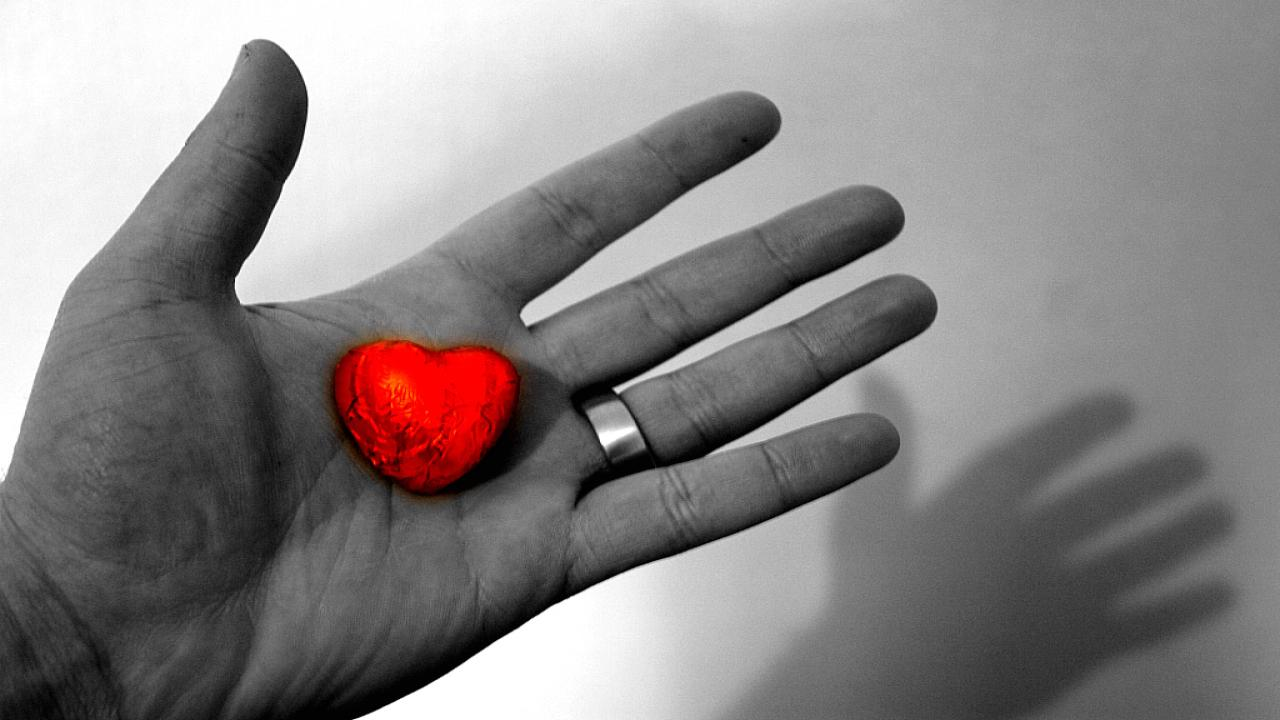ring: (581, 385, 659, 474)
